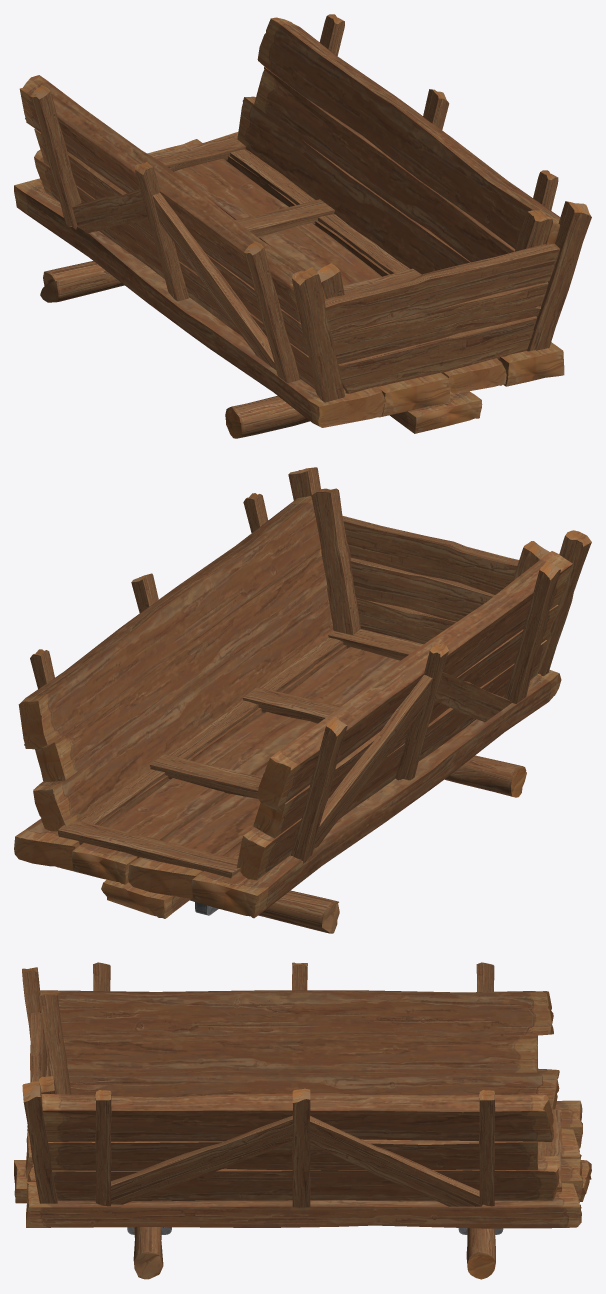
File: SM_Farm_Carriage_Body_01.fbx
3 renders of one model, top to bottom at view 1: azimuth 30°, elevation 25°; view 2: azimuth 150°, elevation 25°; view 3: azimuth 270°, elevation 25°, orthographic. The views are drawn at different scales.
Visible parts, largest first — view 1: SM_Farm_Carriage_Body_01_LOD0; view 2: SM_Farm_Carriage_Body_01_LOD0; view 3: SM_Farm_Carriage_Body_01_LOD0.
Boxes of the visible parts, box(x1,y1,x2,y2) form: SM_Farm_Carriage_Body_01_LOD0: box(14, 14, 591, 438); SM_Farm_Carriage_Body_01_LOD0: box(14, 467, 591, 933); SM_Farm_Carriage_Body_01_LOD0: box(14, 962, 591, 1279).
Bounding box in the file's own units: 211 × 144 × 380.
